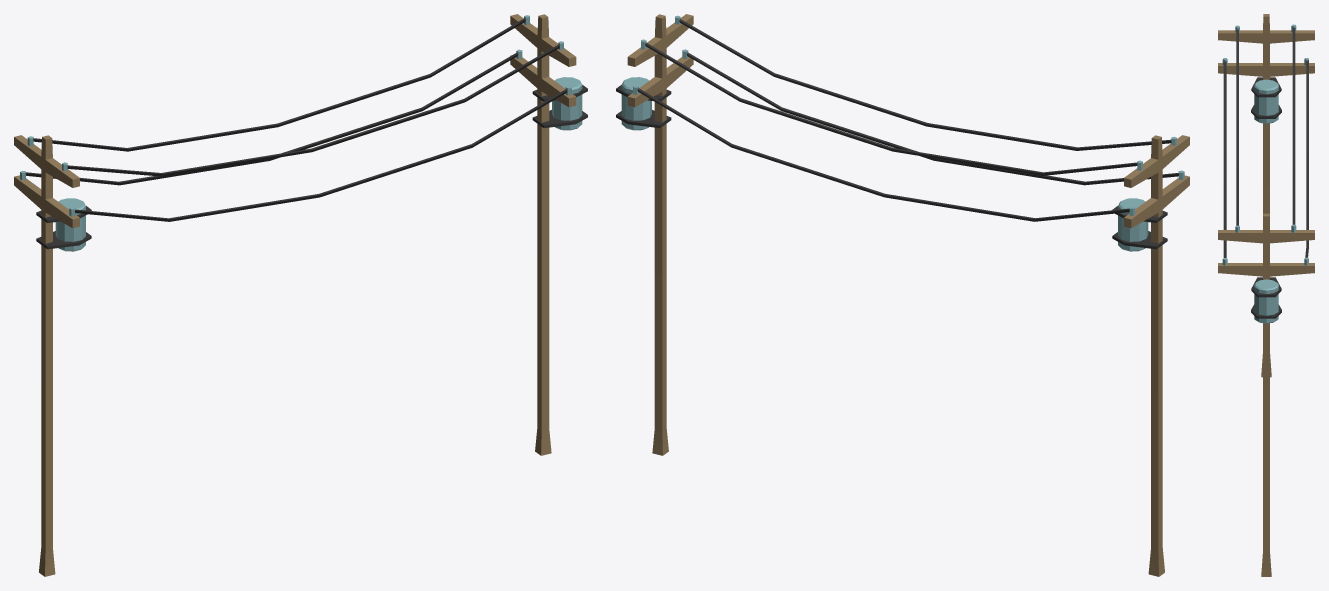
File: model_polytope_powerlines02.fbx
3 views of the same model, side by side, from view 1: azimuth 30°, elevation 25°; view 2: azimuth 150°, elevation 25°; view 3: azimuth 270°, elevation 25° (orthographic). The views are drawn at different scales.
Visible parts, largest first — view 1: model_polytope_powerlines02; view 2: model_polytope_powerlines02; view 3: model_polytope_powerlines02.
Boxes of the visible parts, x1,y1,x2,y2 form: model_polytope_powerlines02: (14, 14, 587, 576); model_polytope_powerlines02: (616, 14, 1189, 576); model_polytope_powerlines02: (1218, 14, 1314, 576).
Size of the model in its own units: 978 by 754 by 184.
Materials: 1 (1 with a texture image).
